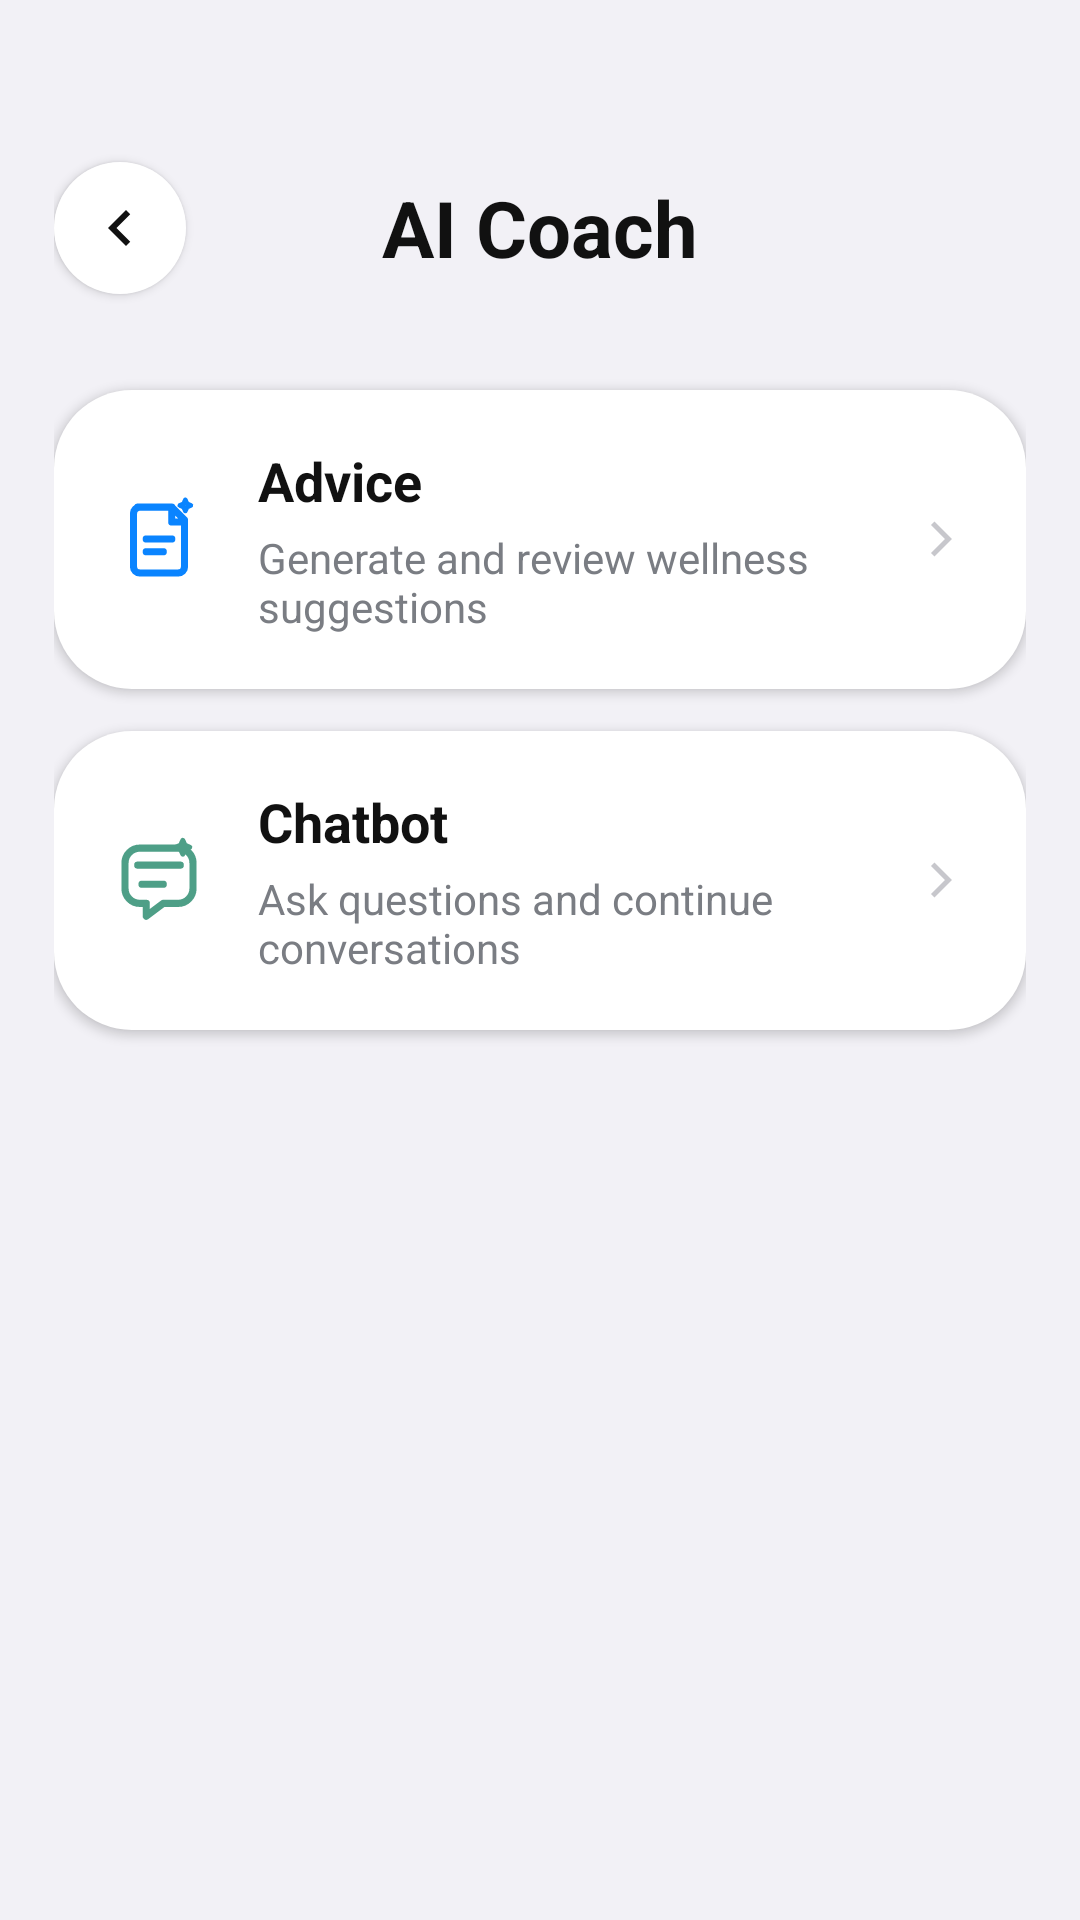

Point at icon controls on the screen. Image size 1080x1920, points as point (x, y).
chevron right: point (941, 539), point (941, 880)
